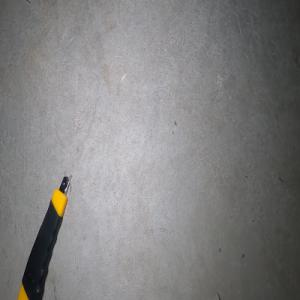Cutter: (16, 173, 70, 300)
